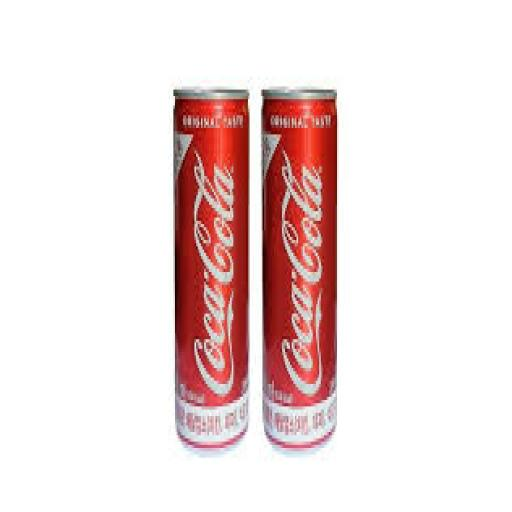Coca: (167, 80, 254, 462), (257, 76, 340, 459)
